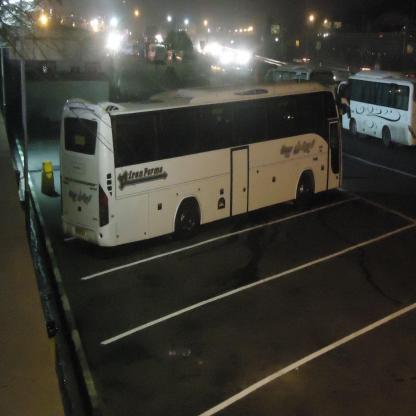Bus: (58, 75, 346, 252), (339, 63, 416, 150)
